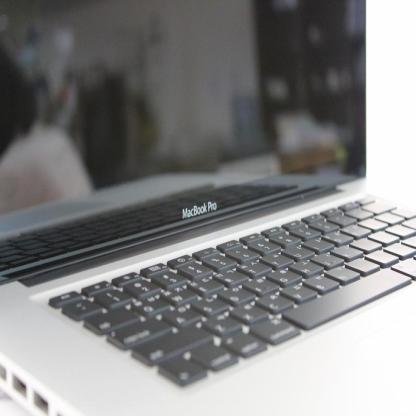board: (0, 3, 416, 404)
